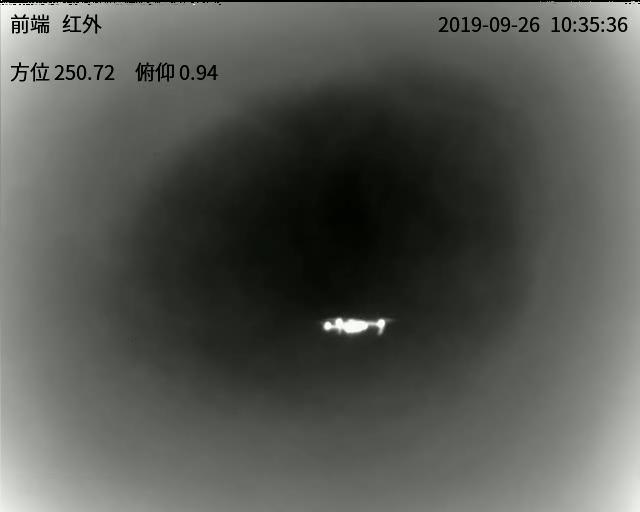uav: (310, 311, 392, 340)
